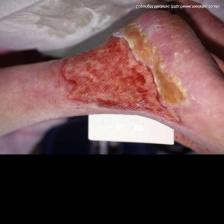Wound: (60, 32, 191, 125)
